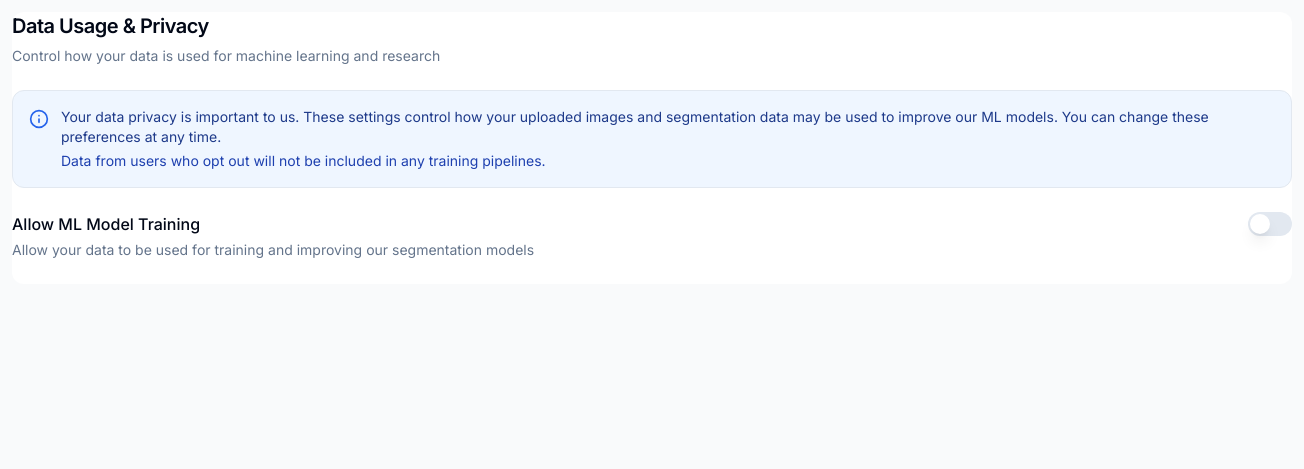
Test: ConsentSection › save button visibility › save button appears after toggling a switch
Click the switch named "allow ml model training" at (1270, 224), box [1248,212,1292,236]
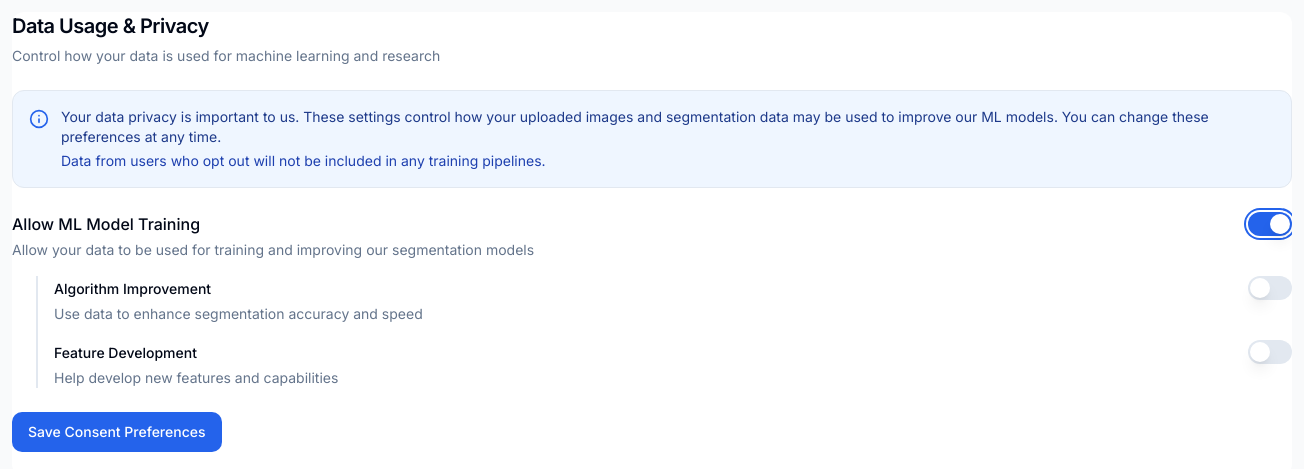
Expected: the button "Save Consent Preferences" is shown, [12,412,222,452]
